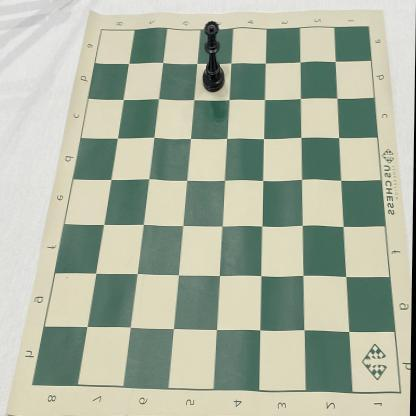black-queen: (202, 20, 226, 93)
